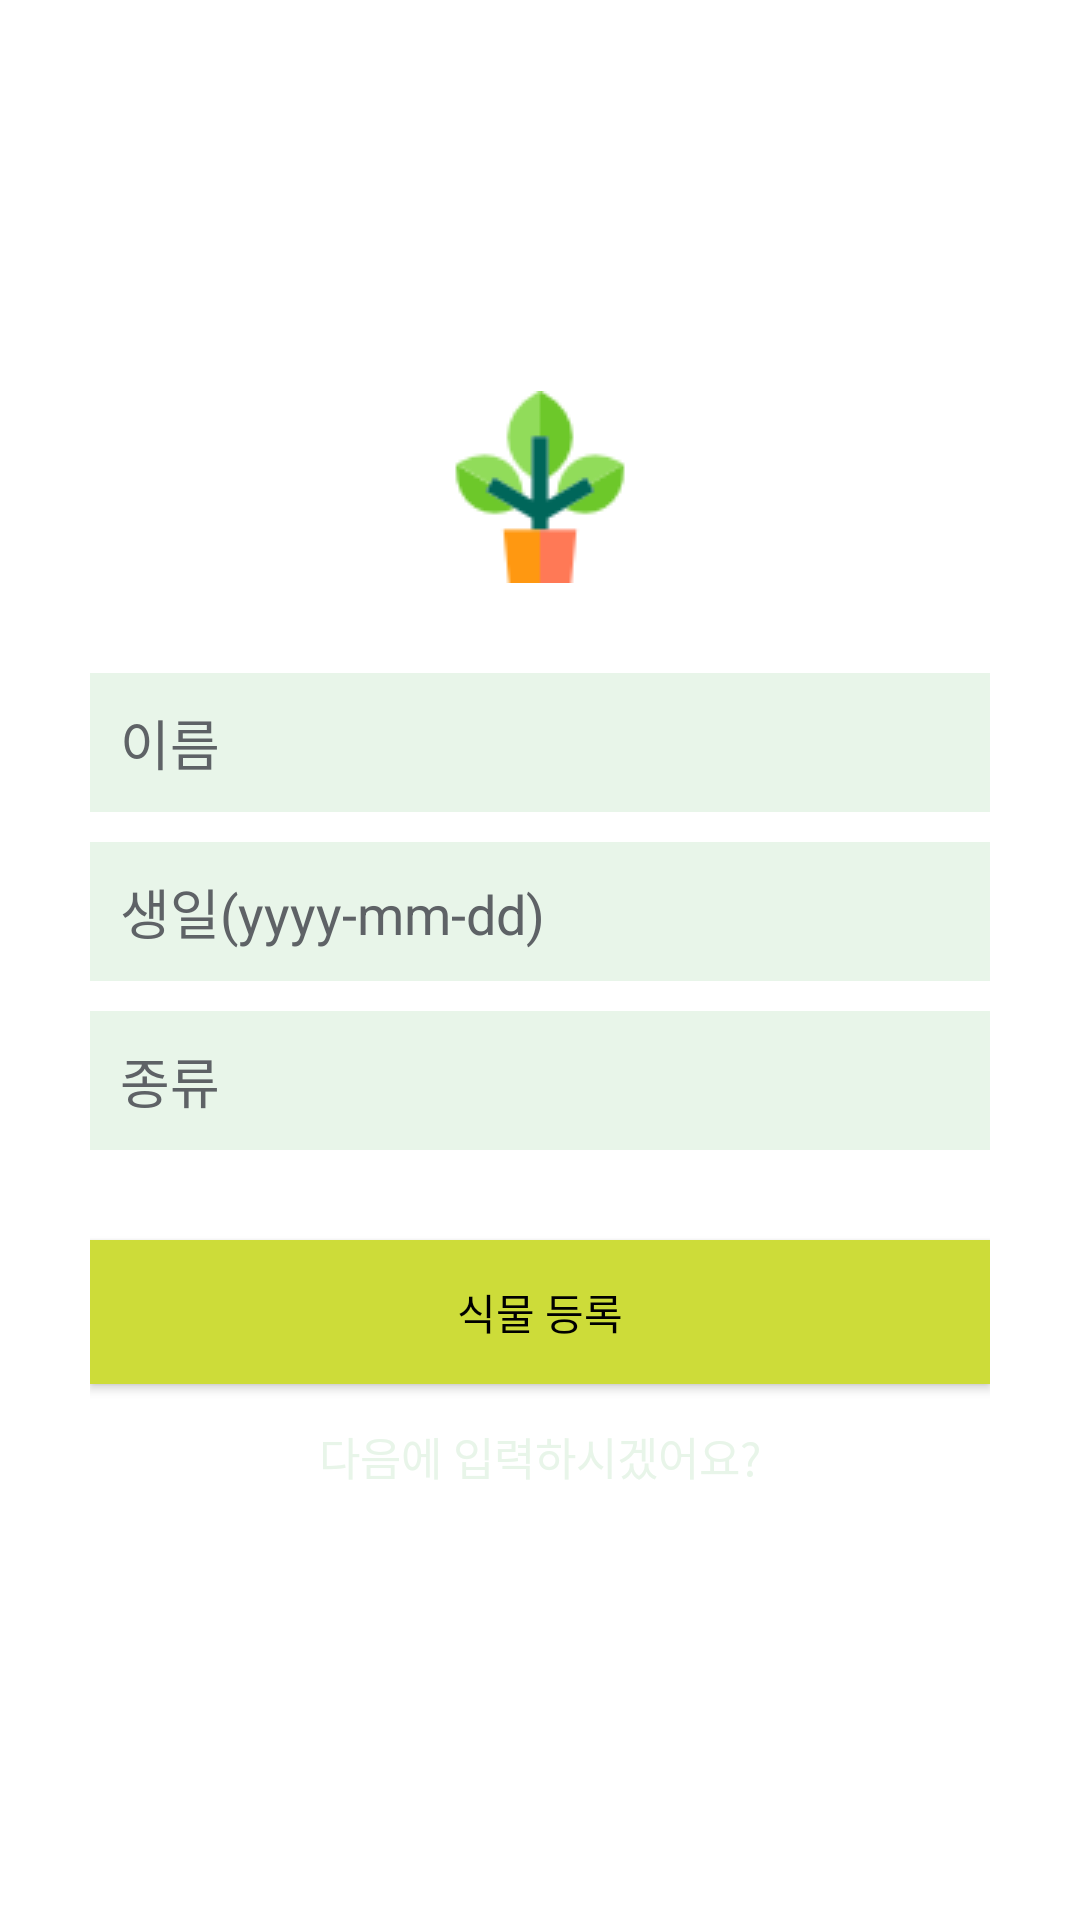

Icons on this 1080x1920 Android screen, each with its box as bbox=[x1, y1, x2, y2]:
plant low: bbox=[455, 391, 625, 583]
